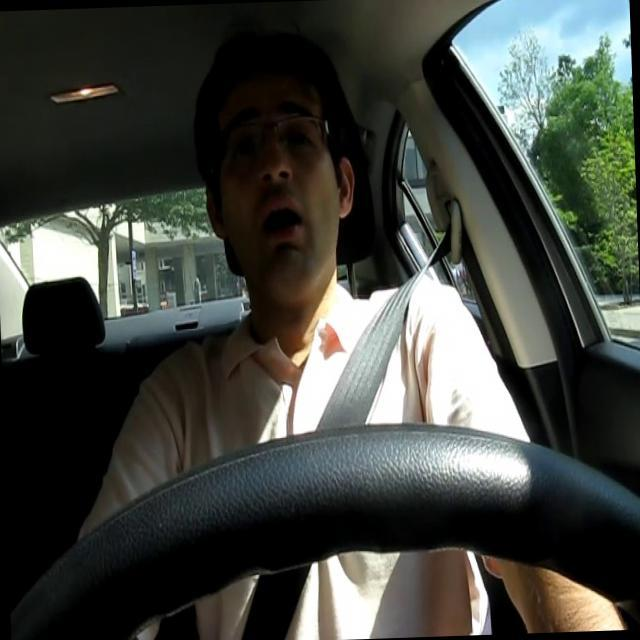Yawning: (254, 192, 312, 249)
